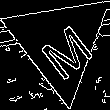M_NW: (28, 9, 92, 77)
